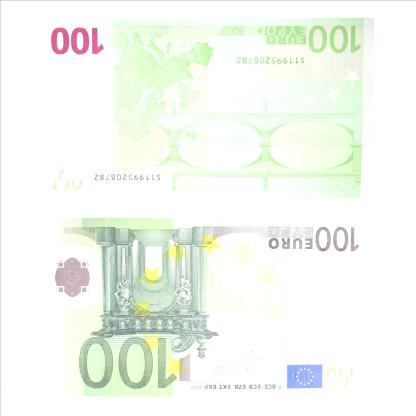euro_banknote: (41, 216, 377, 399), (41, 16, 369, 199)
